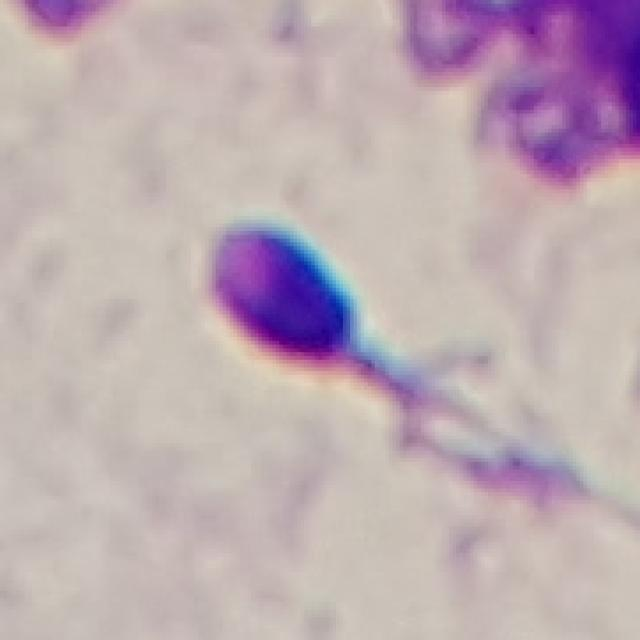normal sperm: (199, 202, 457, 436)
